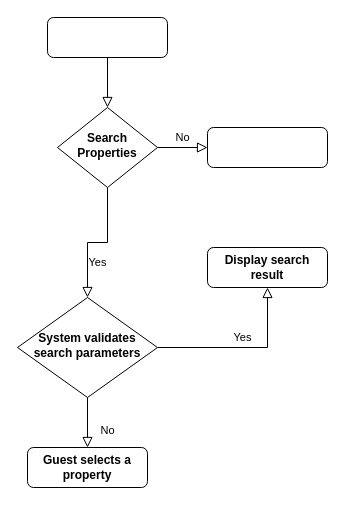
This 345x505 diagram has some shape labels left out. Each missing label, with the centre of its shape:
"Query database" belongs at (267,147).
"Start Booking Process" belongs at (107,37).
